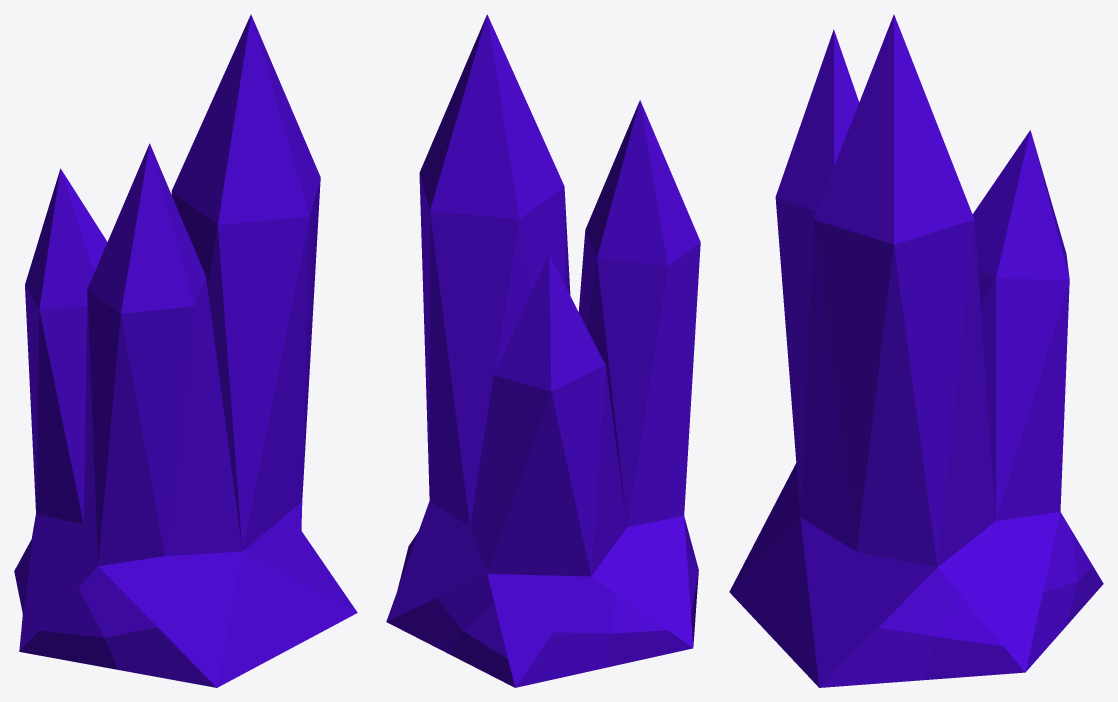
Rendered from Crystal.fbx.
3 views of the same model, side by side, from view 1: azimuth 30°, elevation 25°; view 2: azimuth 150°, elevation 25°; view 3: azimuth 270°, elevation 25° (orthographic). The views are drawn at different scales.
Visible parts, largest first — view 1: crystal; view 2: crystal; view 3: crystal.
Part boxes in pixels (bbox=[...]): crystal: bbox=[14, 14, 357, 687]; crystal: bbox=[386, 14, 700, 687]; crystal: bbox=[729, 14, 1103, 687].
Bounding box in the file's own units: 8638 × 16599 × 8856.
